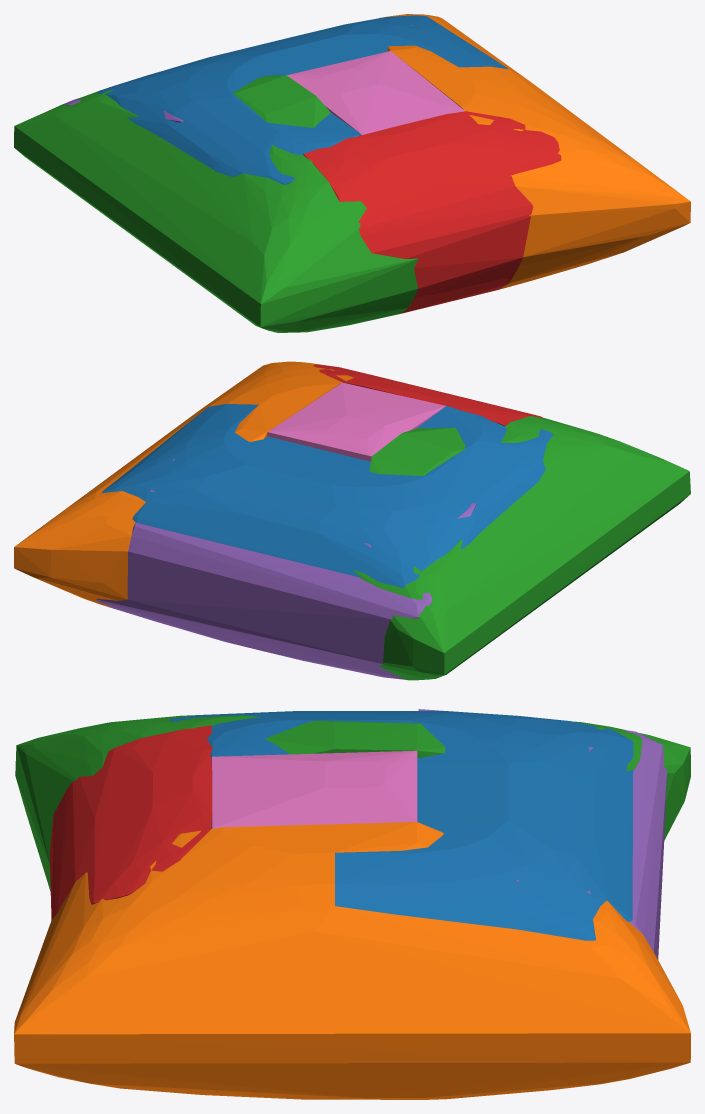
File: Cushion_01_cvx.obj
3 renders of one model, top to bottom at view 1: azimuth 30°, elevation 25°; view 2: azimuth 150°, elevation 25°; view 3: azimuth 270°, elevation 25°, orthographic. The views are drawn at different scales.
Parts seen in each view (by area): view 1: scenes/apartment_0000_coacd/output/Unknown/Cushion_01/cvx/Cushio; view 2: scenes/apartment_0000_coacd/output/Unknown/Cushion_01/cvx/Cushio; view 3: scenes/apartment_0000_coacd/output/Unknown/Cushion_01/cvx/Cushio.
Part boxes in pixels (box(x1,y1,x2,y2)): scenes/apartment_0000_coacd/output/Unknown/Cushion_01/cvx/Cushio: box(14, 14, 690, 332); scenes/apartment_0000_coacd/output/Unknown/Cushion_01/cvx/Cushio: box(14, 361, 690, 680); scenes/apartment_0000_coacd/output/Unknown/Cushion_01/cvx/Cushio: box(14, 709, 690, 1099).
Bounding box in the file's own units: 0.676 × 0.2783 × 0.6718.
